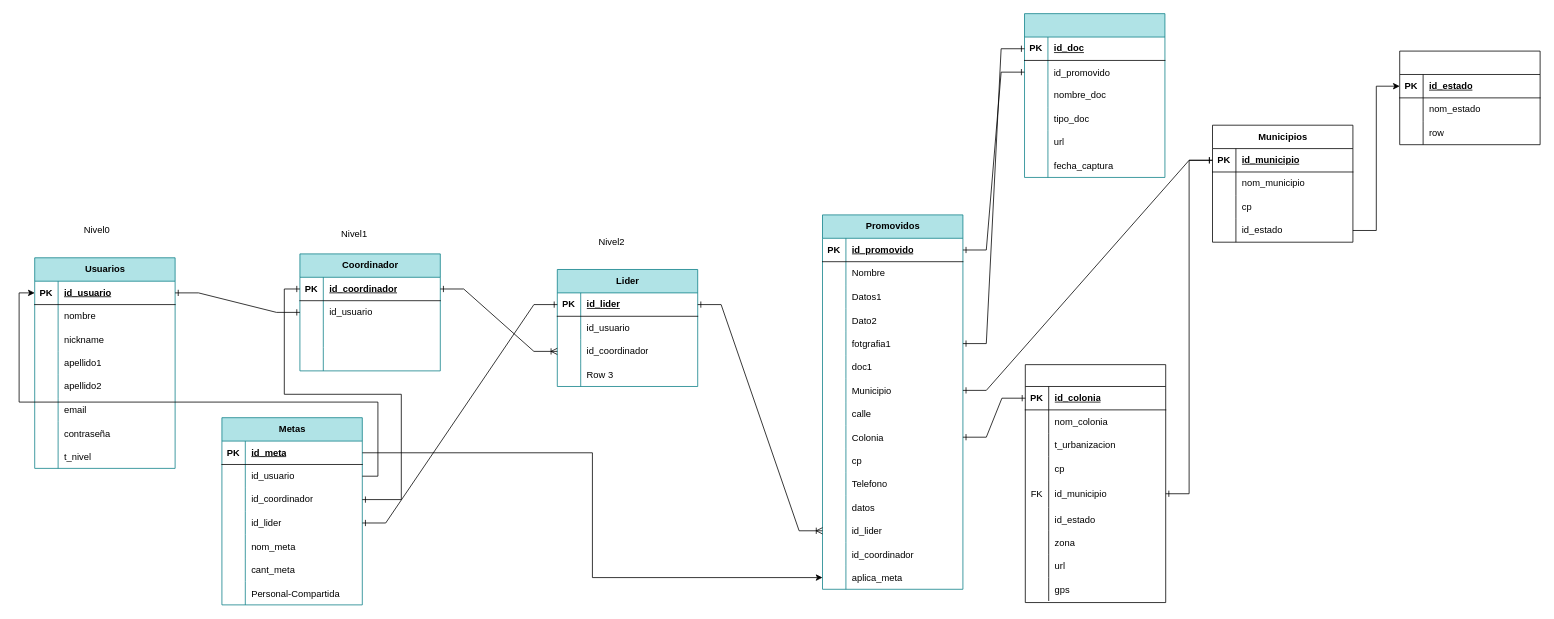
The diagram is 1554 pixels wide and 619 high, and some of its shapes have lost their labels. The shapes that lost their labels are listed below. From the top down, each one's box as (x1, y1, x2, y2) in pixels, then its label:
(1024, 13, 1165, 177): docs
(1399, 50, 1540, 145): Estados
(1025, 364, 1166, 603): Colonias
